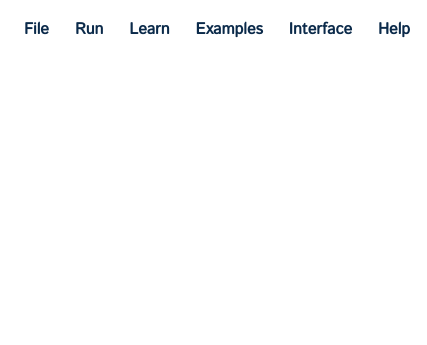
Test: IdeMenuBar › shows the shortcut beside the action
Click the menu item "Run": (89,30) [63,12,115,48]
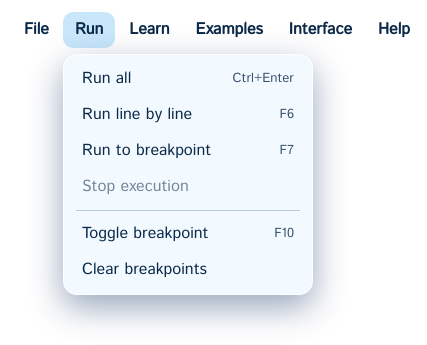
Result: the menu item named "Run allCtrl+Enter" is shown at [70,61,306,97]
